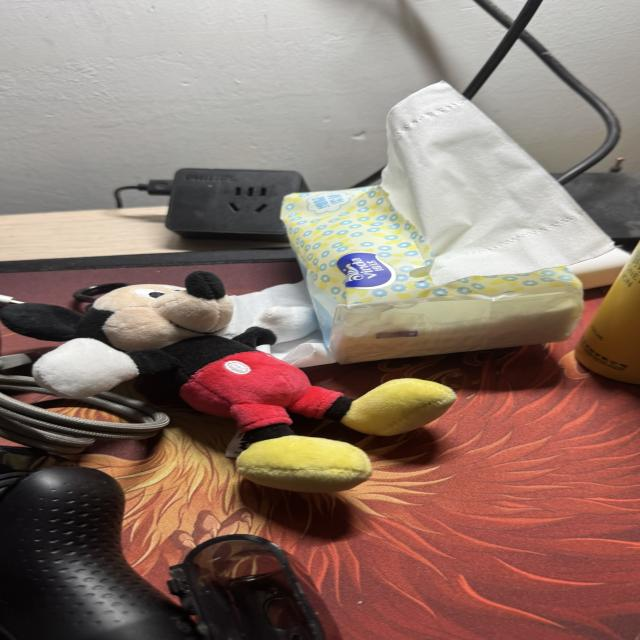mickey: (0, 272, 455, 491)
tissue: (282, 187, 582, 363), (383, 82, 613, 286)
